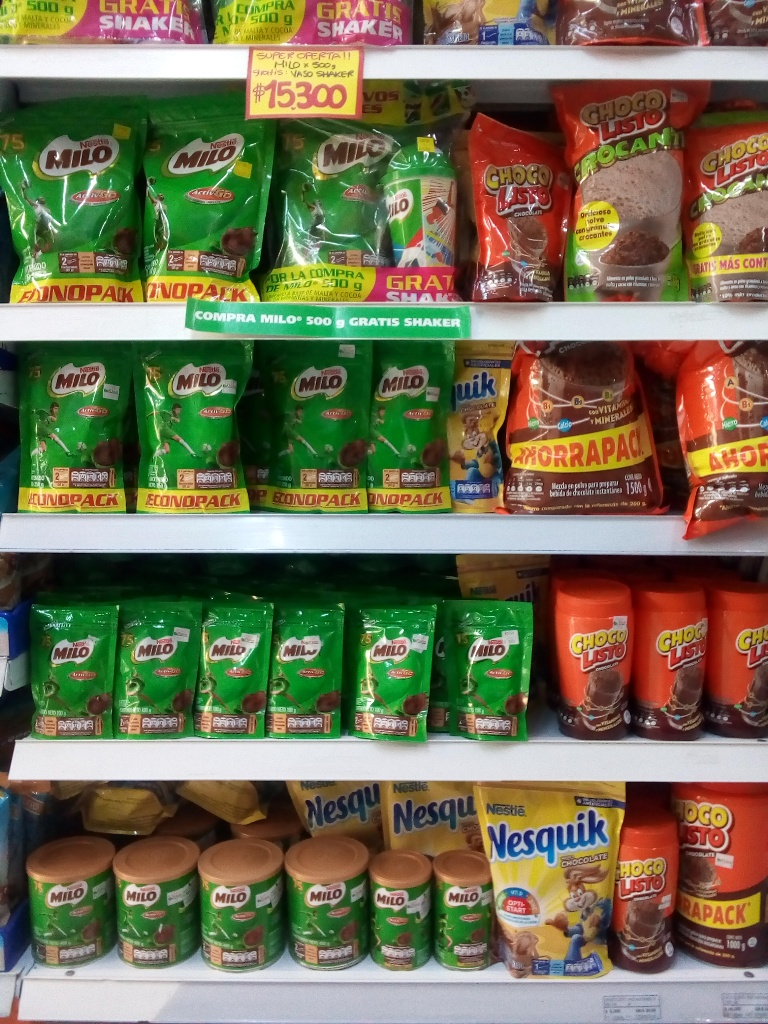COL0170102DYP50000: (558, 79, 693, 293)
COL0170103DYP1,500: (510, 336, 672, 507)
COL0170103TRR00100: (679, 783, 766, 964)
COL0170103TRR30000: (546, 577, 632, 738)
COL0170203DYP10000: (31, 600, 118, 735)
COL0170203DYP50000: (0, 95, 137, 294)
COL0170203LAT20000: (370, 856, 433, 973)
COL0170203LAT40000: (268, 841, 367, 973)
COL0170303DYP20000: (457, 339, 529, 511)
